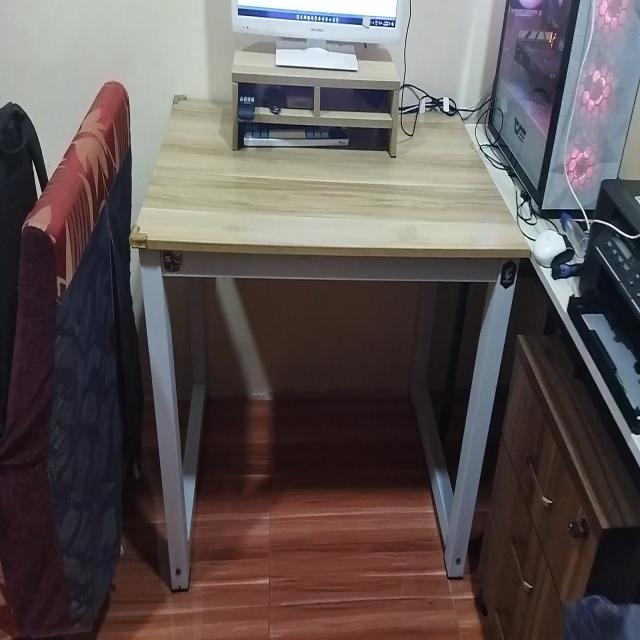table: (135, 88, 521, 594)
